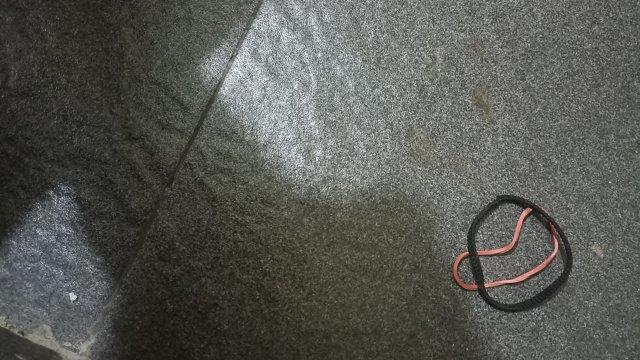karet: (452, 194, 574, 310)
